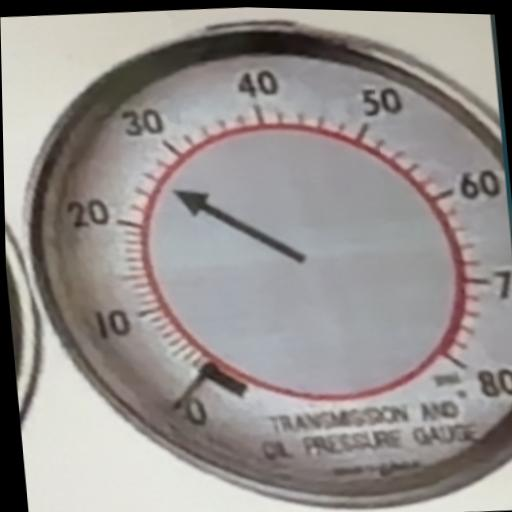needle: (160, 171, 324, 281)
